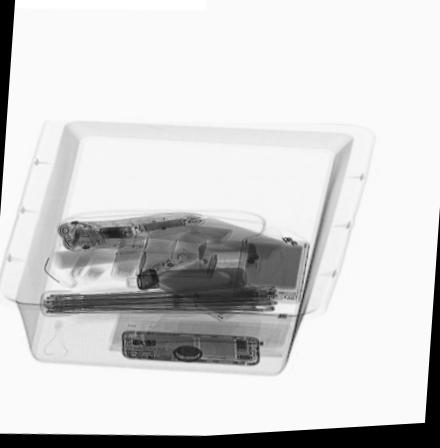Powerbank: (231, 242, 310, 305)
